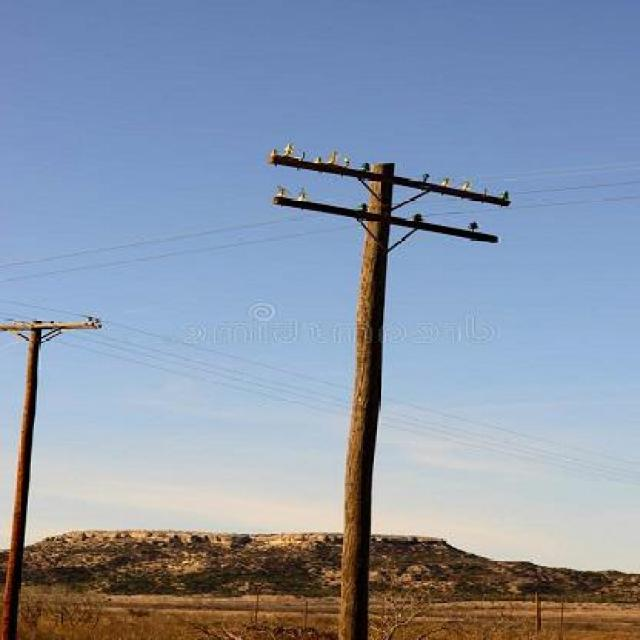pole: (263, 147, 515, 638), (2, 297, 100, 638)
